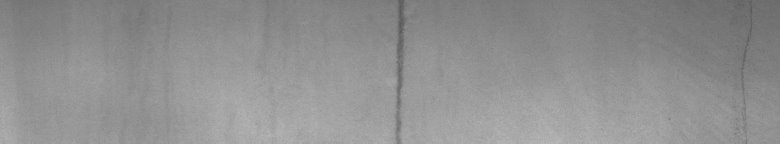hd: (392, 4, 408, 136)
